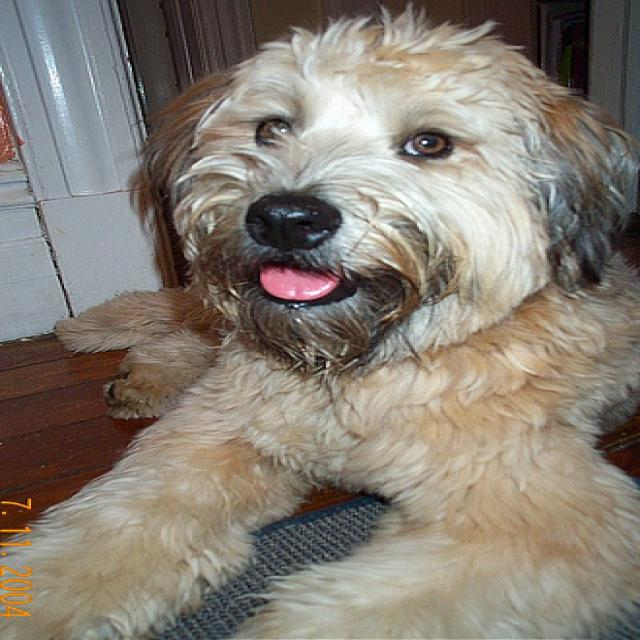dog-wheaten_terrier: (2, 14, 636, 637)
